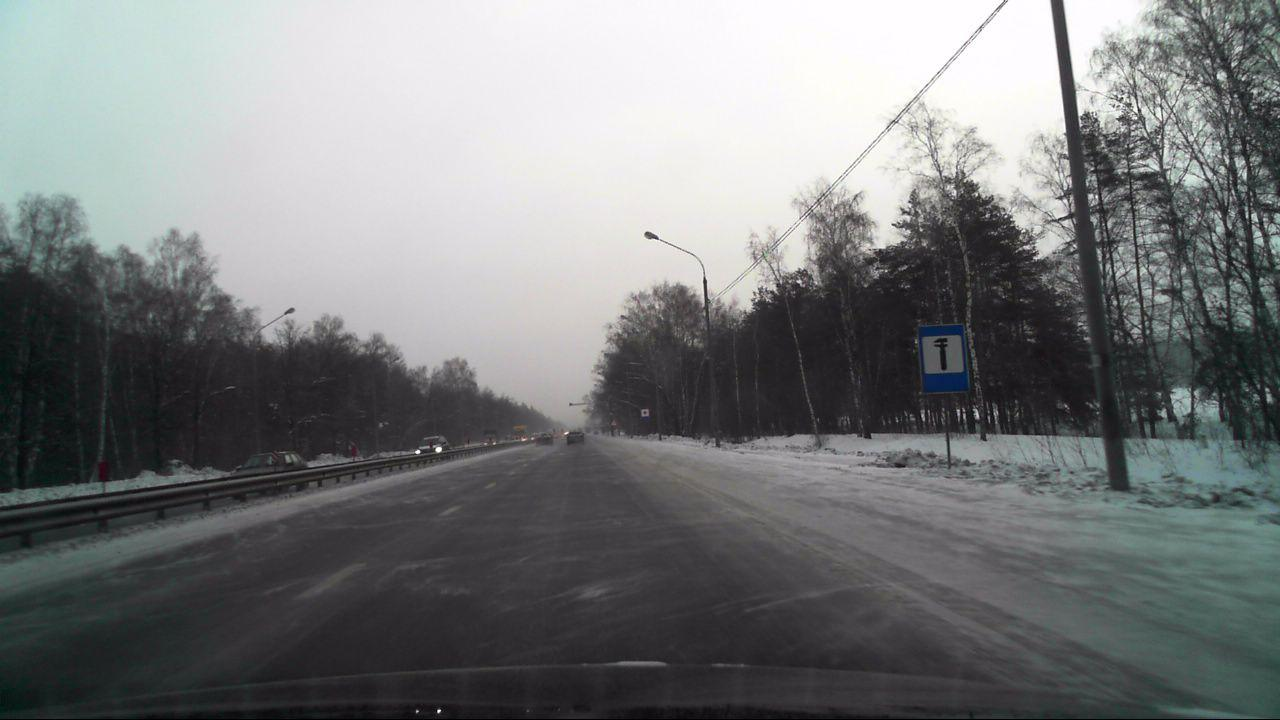7_4: (918, 323, 968, 392)
